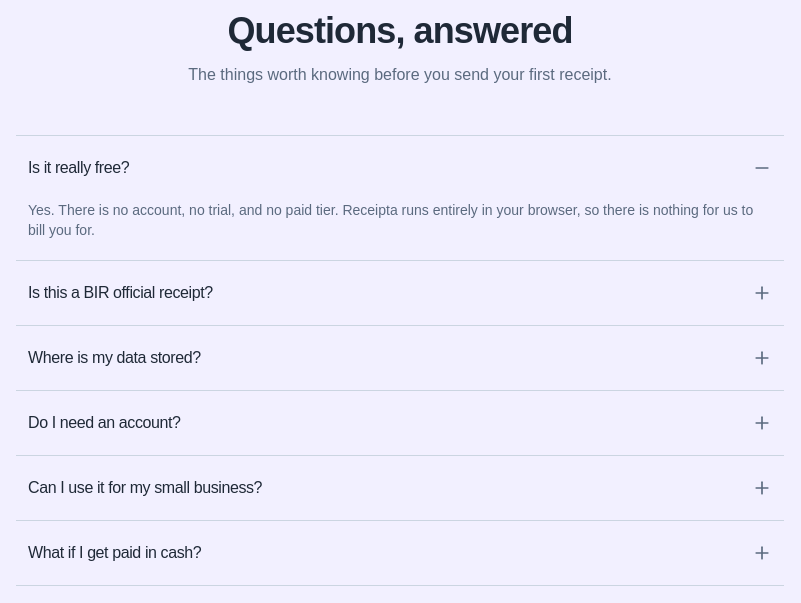
it: HomeFaq › closes the open item when another opens
Click the button "Do I need an account?". click: (104, 422)
box: [16,391,784,455]
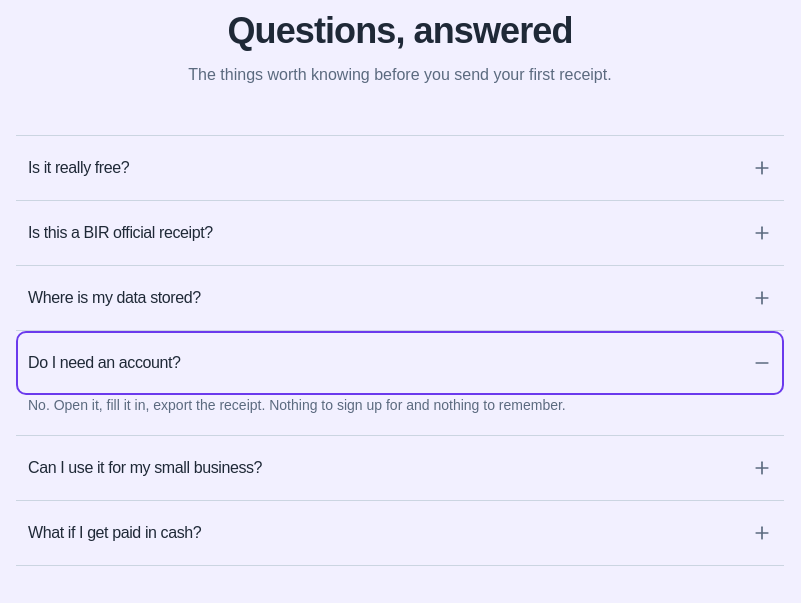
Expected: the button "Do I need an account?" is expanded, [16,331,784,395]
